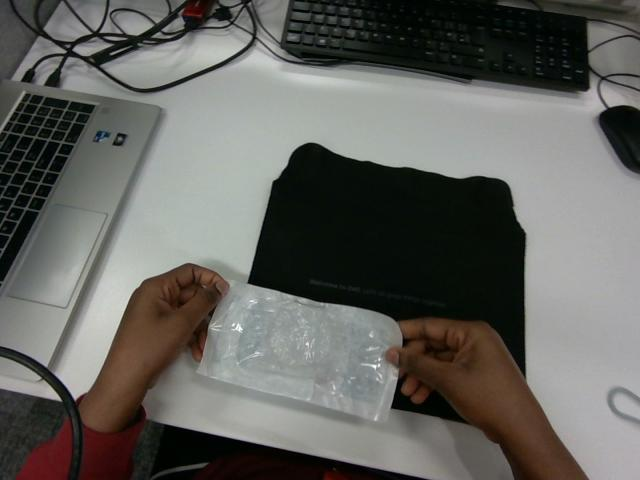gallipot: (197, 282, 401, 420)
